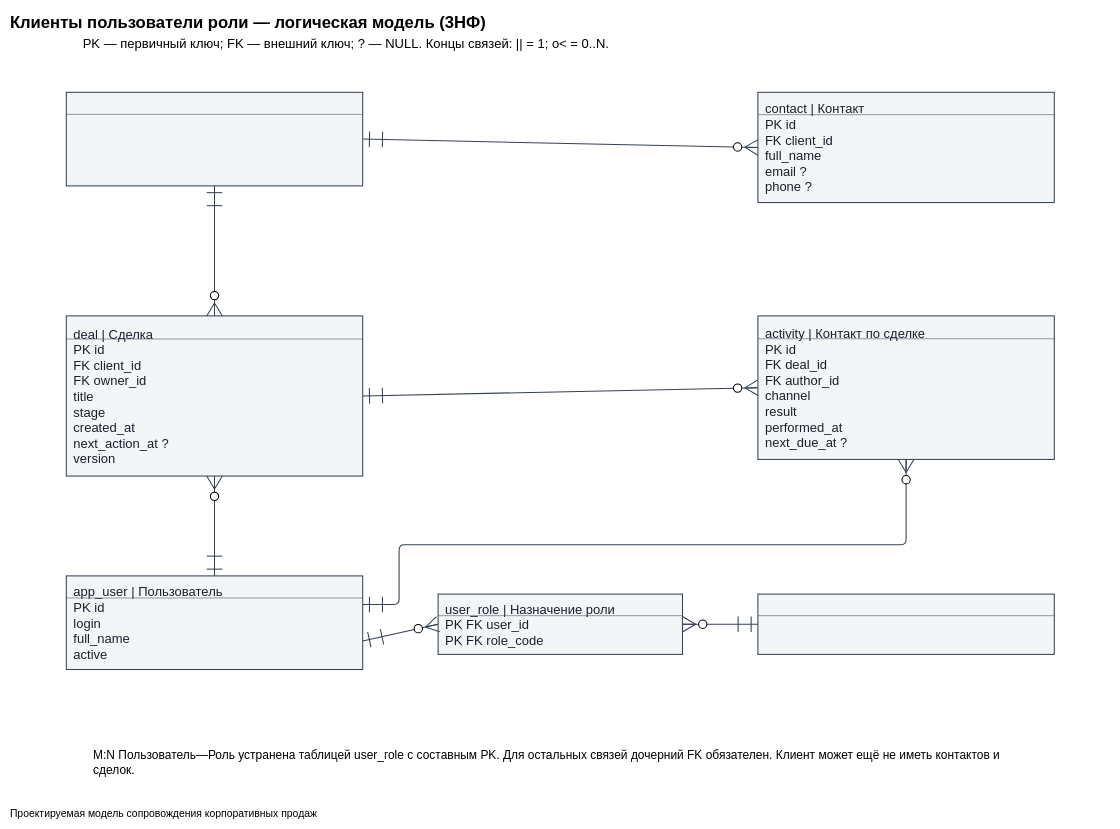
Image size: 1120x829. Some labels were removed from this diagram. The shapes that lost their labels are listed below. From the top down, each one's centre as x and y in pixels, then its label:
At point 214,139: "client | Клиент PK id inn name active".
At point 906,624: "app_role | Роль PK code name".
